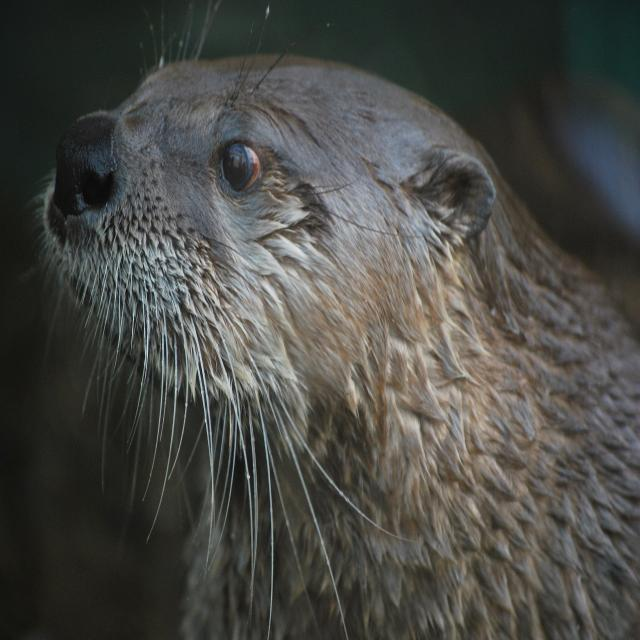otter: (43, 50, 630, 576)
